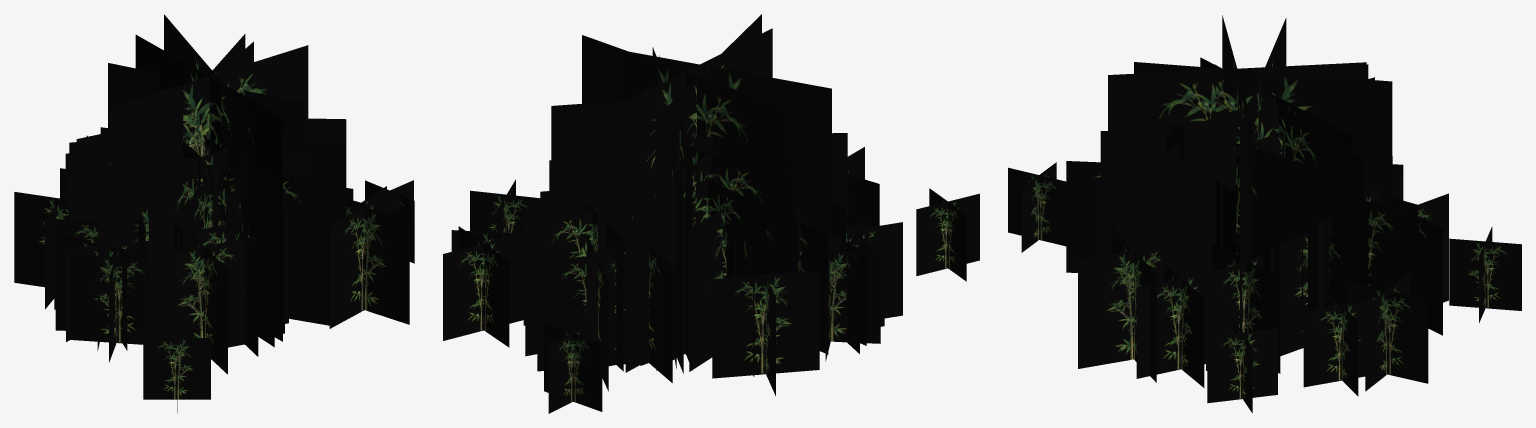
File: bamboo-sapling-cluster.fbx
3 views of the same model, side by side, from view 1: azimuth 30°, elevation 25°; view 2: azimuth 150°, elevation 25°; view 3: azimuth 270°, elevation 25° (orthographic). The views are drawn at different scales.
Visible parts, largest first — view 1: bamboo-forest; view 2: bamboo-forest; view 3: bamboo-forest.
Part boxes in pixels (bbox=[...]): bamboo-forest: bbox=[14, 14, 414, 412]; bamboo-forest: bbox=[443, 14, 979, 413]; bamboo-forest: bbox=[1008, 15, 1521, 413].
Bounding box in the file's own units: 158 × 93.61 × 183.
